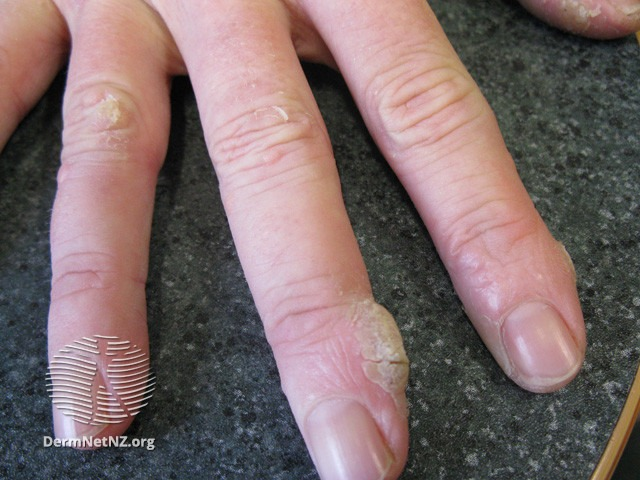Warts: (344, 286, 419, 401)
